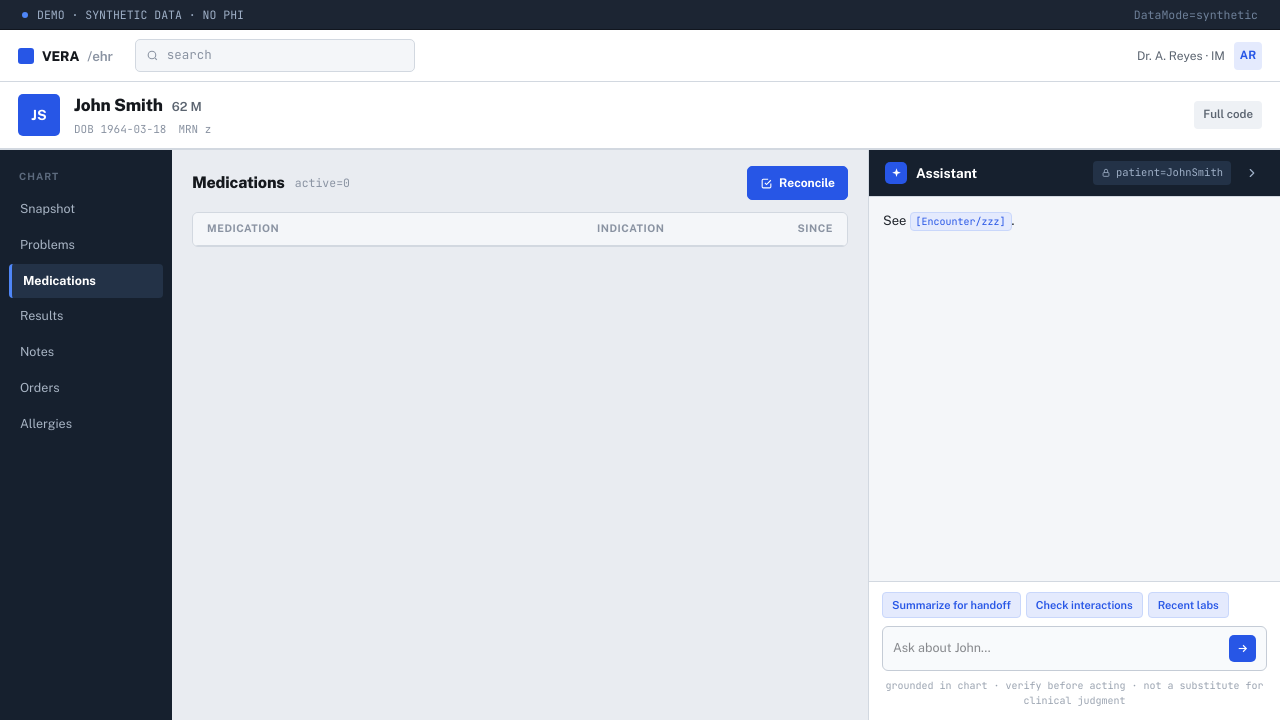
it: Console reference drawer › opens an explicit 'not in context' drawer for an unresolved ref
The width and height of the screenshot is (1280, 720).
Click the button with aria-label "Open reference: Encounter/zzz". click: (960, 222)
box: [910, 212, 1012, 231]
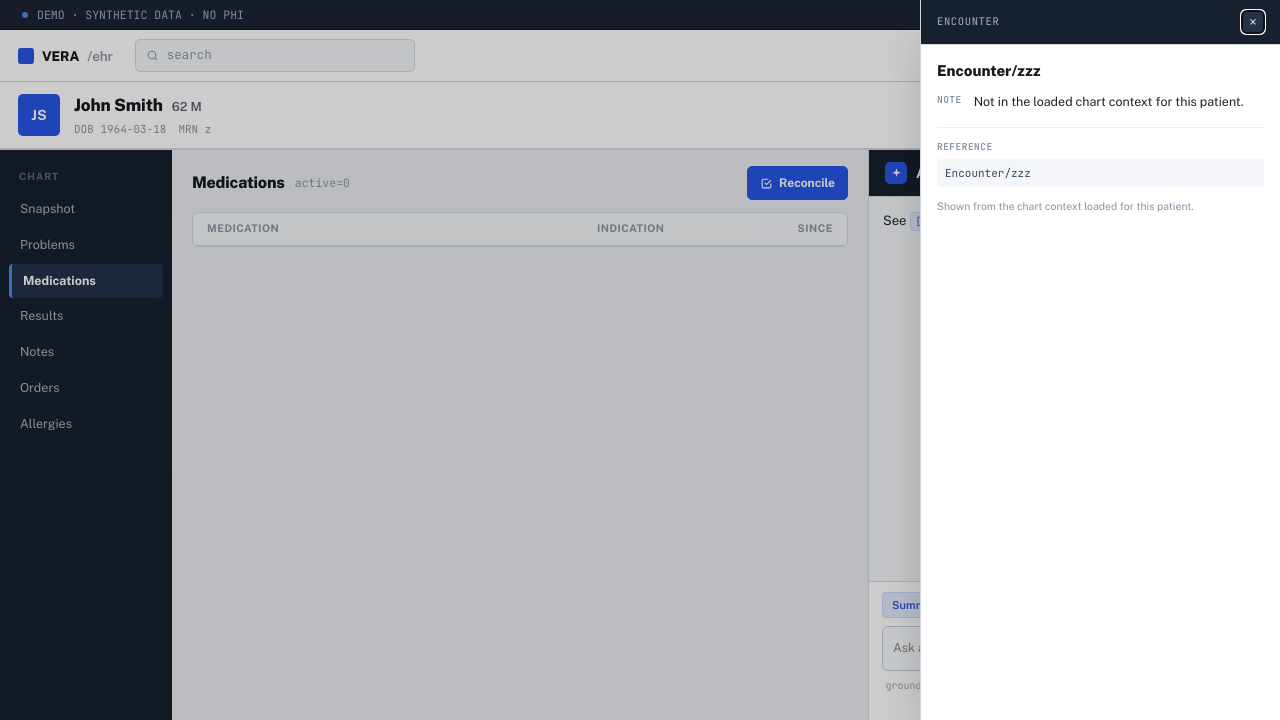
expect the text "Not in the loaded chart context for this patient." is shown: met, box [974, 92, 1264, 111]
